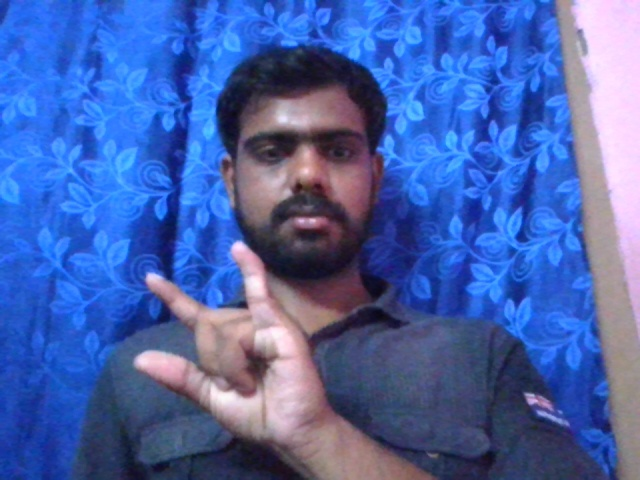IloveYou: (125, 234, 345, 452)
